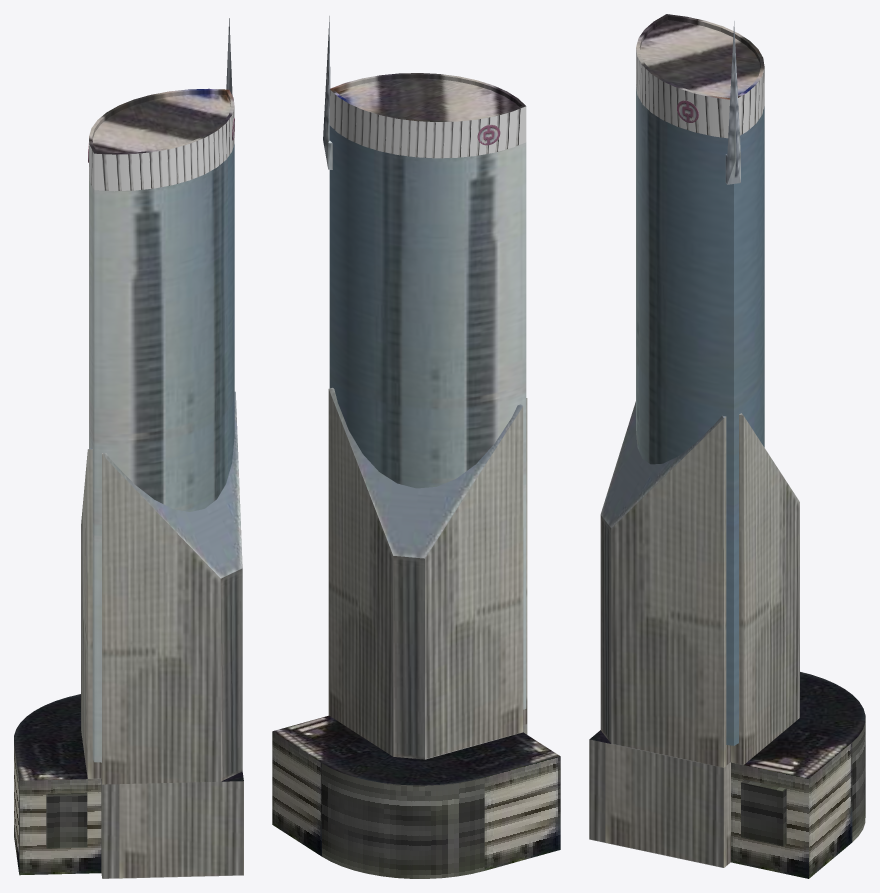
The model's file is ShBocTower.gltf.
The picture shows the model from 3 angles, left to right: view 1: azimuth 30°, elevation 25°; view 2: azimuth 150°, elevation 25°; view 3: azimuth 270°, elevation 25°; orthographic projection. The views are drawn at different scales.
Parts seen in each view (by area): view 1: Difference1, 组件#1 (×2), object 1, 交点; view 2: Difference1, 组件#1 (×2), object 1, 交点, object 8; view 3: 组件#1 (×2), Difference1, object 1, 交点, object 8.
Part boxes in pixels (x1,y1,x2,y2): Difference1: (89,144,234,762); 组件#1 (×2): (81,391,242,784); object 1: (14,694,243,878); 交点: (89,88,234,191); Difference1: (329,125,526,709); 组件#1 (×2): (328,388,527,759); object 1: (272,715,560,878); 交点: (329,73,526,158); object 8: (323,16,332,169); 组件#1 (×2): (600,401,799,767); Difference1: (636,87,764,745); object 1: (589,672,865,878); 交点: (636,14,764,138); object 8: (725,21,740,184).
Bounding box in the file's own units: 82.27 × 257 × 75.89.
11 materials, 10 textured.
